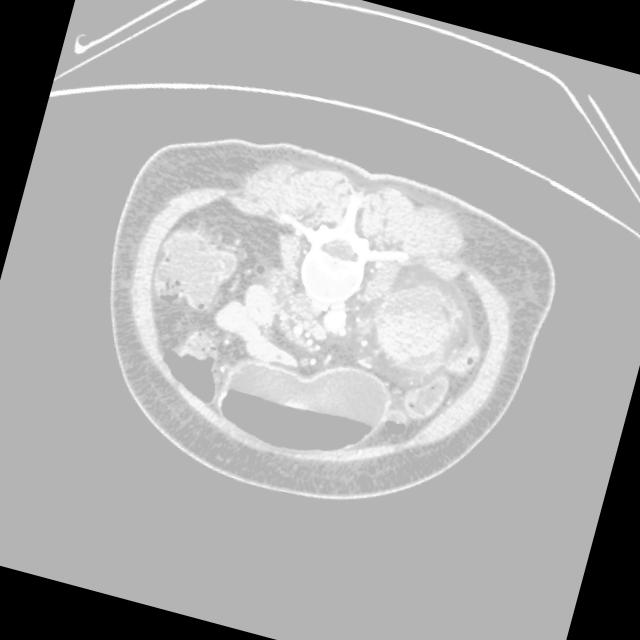TUMOR: (106, 167, 506, 458)
